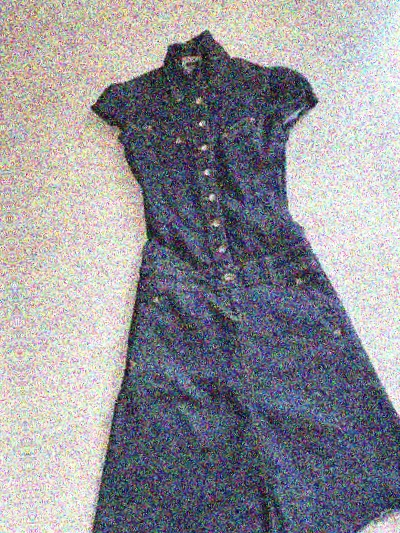Dress: (30, 20, 400, 533), (0, 53, 1, 533)
